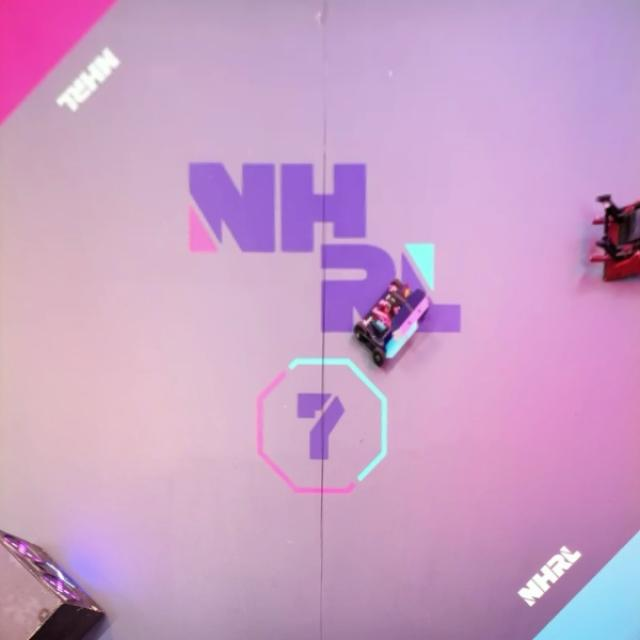housebot: (0, 527, 107, 640)
robot: (354, 278, 432, 367), (588, 193, 640, 282)
